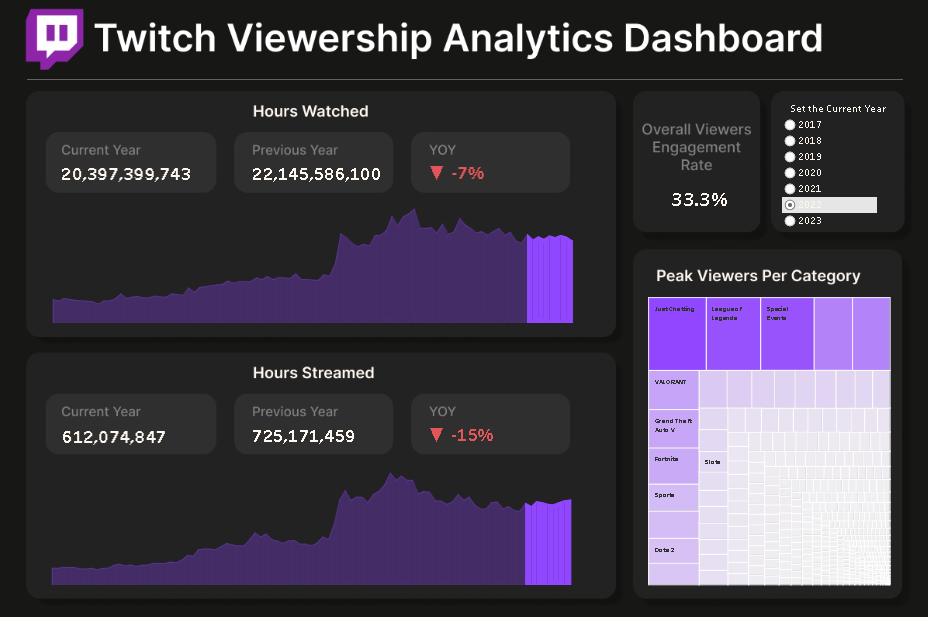

What the dashboard file says about the page in this screenshot:
{"tool":"tableau","page":{"name":"Main Dashboard","canvas":[1200,800],"ordinal":0},"visuals":[{"type":"image","param":"Image/14th.png","box":[8,8,1184,784]},{"type":"filter","title":"Hours Watched Current Year","param":"[federated.10yuxf5011481d13yw1g51mfj1rt].[none:Year 2016:nk]","box":[997,140,142,158]},{"type":"worksheet","title":"Hours Watched Current Year","mark":"Automatic","box":[93,201,177,59]},{"type":"worksheet","title":"Hours Watched Previous Year","mark":"Automatic","box":[331,201,183,59]},{"type":"worksheet","title":"Total Hours Watched YOY","mark":"Automatic","box":[543,211,114,35]},{"type":"worksheet","title":"Overall Viewers Engagement Rate","mark":"Automatic","rows":["Calculation_712131728365674496"],"box":[815,231,160,60]},{"type":"worksheet","title":"Total Hours watched Chart","mark":"Line","rows":["Hours_watched","Calculation_181832874954776578"],"cols":["Calculation_712131728365674496"],"box":[54,268,714,150]},{"type":"worksheet","title":"Peak viewers per Category","mark":"Automatic","box":[826,381,310,367]},{"type":"worksheet","title":"Hours Streamed Current Year","mark":"Automatic","box":[94,532,158,53]},{"type":"worksheet","title":"Hours Streamed Previous Year","mark":"Automatic","box":[331,532,168,50]},{"type":"worksheet","title":"Total Hours Streamed YOY","mark":"Text","box":[552,532,115,47]},{"type":"worksheet","title":"Total Hours Streamed Chart","mark":"Area","rows":["Hours_streamed","Calculation_181832874961743875"],"cols":["Calculation_712131728365674496"],"box":[52,597,713,148]}]}

Visuals, with their boxes in screenshot pixels (x1, y1, x2, y2), scaled from the page's 1200x800 canvas onto the 928x617 screenshot:
image: left=6, top=6, right=922, bottom=611
"Hours Watched Current Year" filter: left=771, top=108, right=881, bottom=230
"Hours Watched Current Year" worksheet: left=72, top=155, right=209, bottom=201
"Hours Watched Previous Year" worksheet: left=256, top=155, right=397, bottom=201
"Total Hours Watched YOY" worksheet: left=420, top=163, right=508, bottom=190
"Overall Viewers Engagement Rate" worksheet: left=630, top=178, right=754, bottom=224
"Total Hours watched Chart" worksheet (Line marks): left=42, top=207, right=594, bottom=322
"Peak viewers per Category" worksheet: left=639, top=294, right=879, bottom=577
"Hours Streamed Current Year" worksheet: left=73, top=410, right=195, bottom=451
"Hours Streamed Previous Year" worksheet: left=256, top=410, right=386, bottom=449
"Total Hours Streamed YOY" worksheet (Text marks): left=427, top=410, right=516, bottom=447
"Total Hours Streamed Chart" worksheet (Area marks): left=40, top=460, right=592, bottom=575
